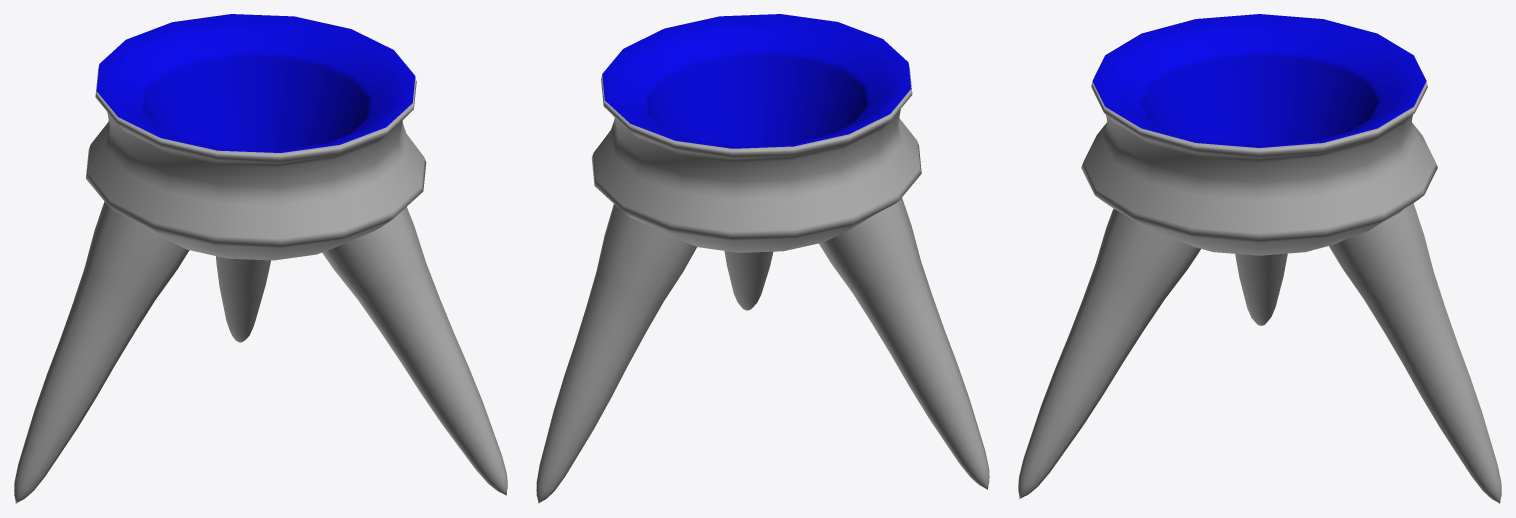
The model's file is Clay-3Legs.fbx.
The picture shows the model from 3 angles, left to right: view 1: azimuth 30°, elevation 25°; view 2: azimuth 150°, elevation 25°; view 3: azimuth 270°, elevation 25°; orthographic projection. The views are drawn at different scales.
Parts seen in each view (by area): view 1: pCylinder6; view 2: pCylinder6; view 3: pCylinder6.
Part boxes in pixels (x1,y1,x2,y2): pCylinder6: (14, 14, 507, 503); pCylinder6: (536, 14, 989, 503); pCylinder6: (1018, 14, 1501, 503).
Size of the model in its own units: 4.12 by 3.79 by 4.47.
